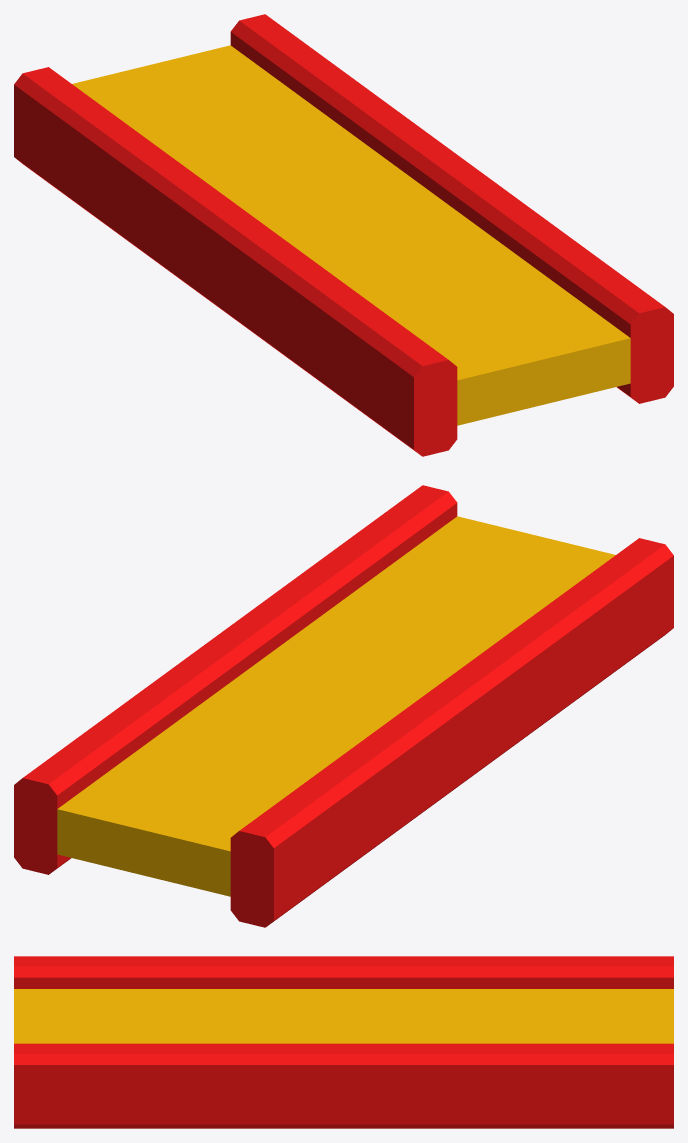
The model's file is SeeSaw_01_1x4x025m_01_.fbx.
3 views of the same model, one above another, from view 1: azimuth 30°, elevation 25°; view 2: azimuth 150°, elevation 25°; view 3: azimuth 270°, elevation 25° (orthographic). The views are drawn at different scales.
Parts seen in each view (by area): view 1: SeeSaw_01_1x4x025m_01_; view 2: SeeSaw_01_1x4x025m_01_; view 3: SeeSaw_01_1x4x025m_01_.
Boxes of the visible parts, bbox=[...] form: SeeSaw_01_1x4x025m_01_: bbox=[14, 14, 673, 456]; SeeSaw_01_1x4x025m_01_: bbox=[14, 485, 673, 927]; SeeSaw_01_1x4x025m_01_: bbox=[14, 956, 673, 1128].
Bounding box in the file's own units: 150 × 49.96 × 400.
